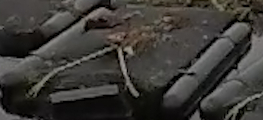bag: (1, 7, 252, 111)
